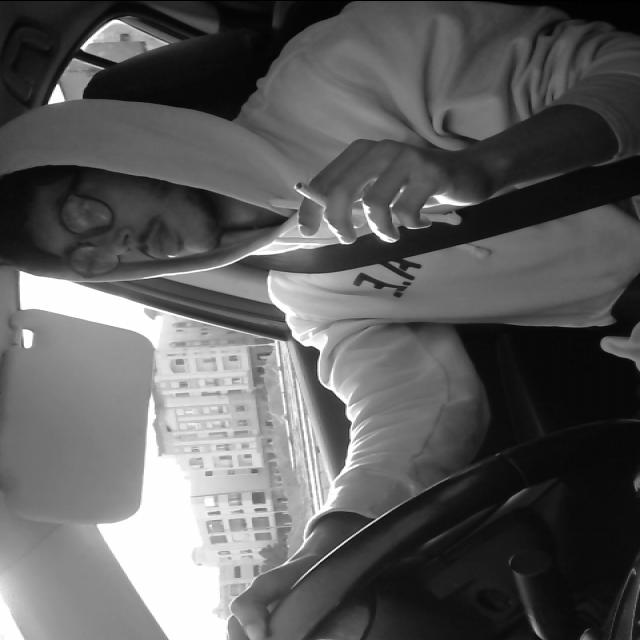smoking: (290, 179, 366, 231)
